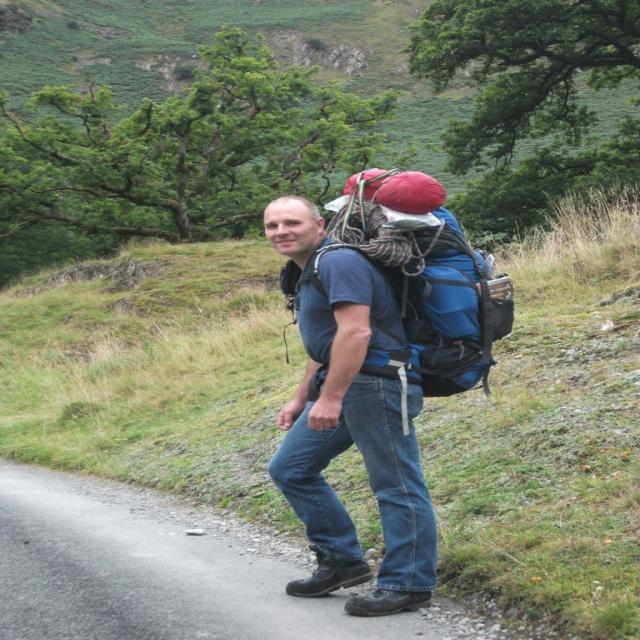backpack: (310, 173, 506, 392)
